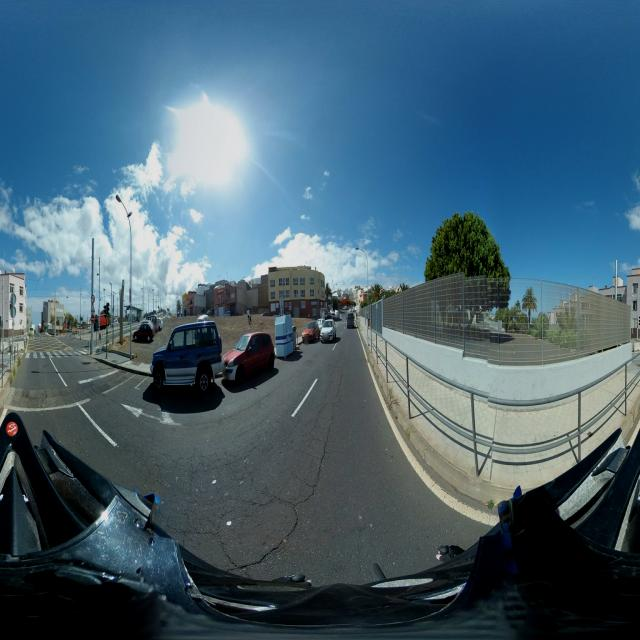car: (150, 322, 223, 394), (222, 331, 276, 388), (274, 314, 298, 360), (132, 320, 154, 342), (302, 319, 321, 343), (319, 320, 336, 344), (346, 314, 356, 329)
